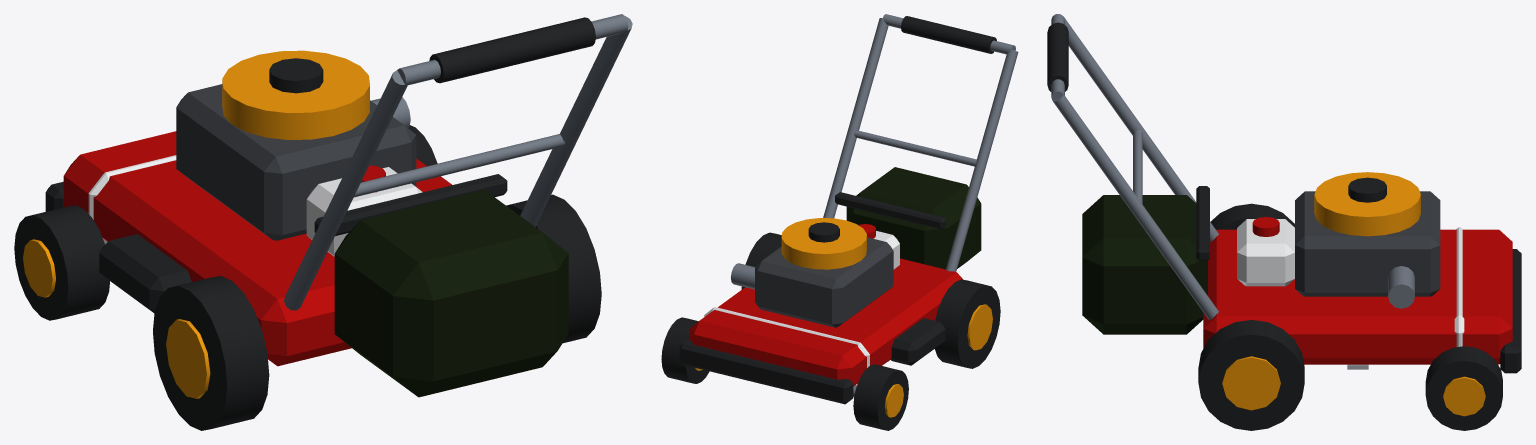
The model's file is mower.fbx.
3 views of the same model, side by side, from view 1: azimuth 30°, elevation 25°; view 2: azimuth 150°, elevation 25°; view 3: azimuth 270°, elevation 25° (orthographic). The views are drawn at different scales.
Parts seen in each view (by area): view 1: Body, Wheel_RL, Wheel_FL, Wheel_RR; view 2: Body, Wheel_RL, Wheel_FL, Wheel_FR, Wheel_RR; view 3: Body, Wheel_RR, Wheel_FR, Wheel_RL.
Part boxes in pixels (x1,y1,x2,y2): Body: [45, 14, 632, 397]; Wheel_RL: [153, 275, 269, 430]; Wheel_FL: [14, 205, 109, 320]; Wheel_RR: [506, 194, 601, 343]; Body: [679, 14, 1018, 404]; Wheel_RL: [935, 279, 1000, 368]; Wheel_FL: [853, 364, 908, 430]; Wheel_FR: [661, 317, 709, 383]; Wheel_RR: [741, 232, 781, 289]; Body: [1047, 14, 1521, 373]; Wheel_RR: [1198, 320, 1304, 430]; Wheel_FR: [1425, 346, 1502, 430]; Wheel_RL: [1210, 203, 1294, 229].
Bounding box in the file's own units: 3.26 × 3.61 × 4.9.
